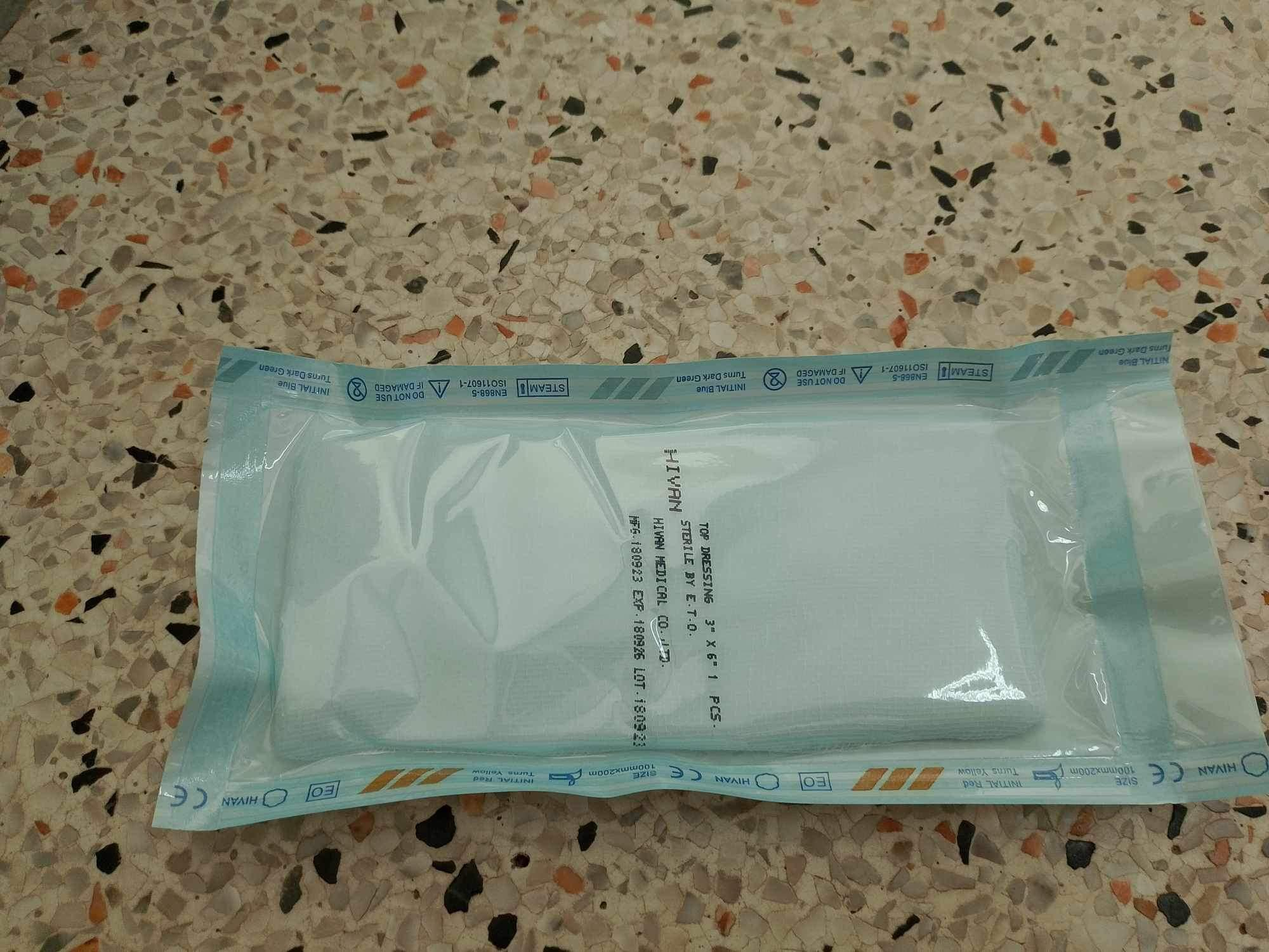General: (5, 4, 1264, 942)
Infectious: (150, 330, 1266, 830)
